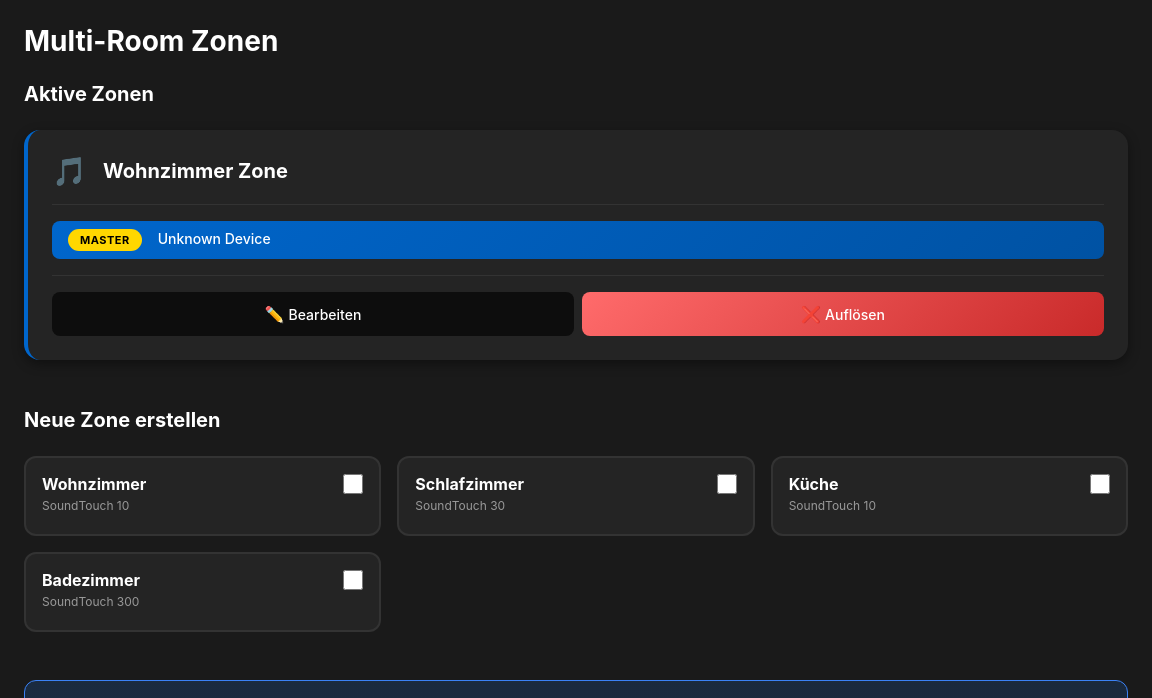
Test: MultiRoom - Zone Creation › should allow deselecting devices
# Select device
Click the checkbox labelled "Wohnzimmer SoundTouch 10" at (353, 484), box [343,474,363,494]
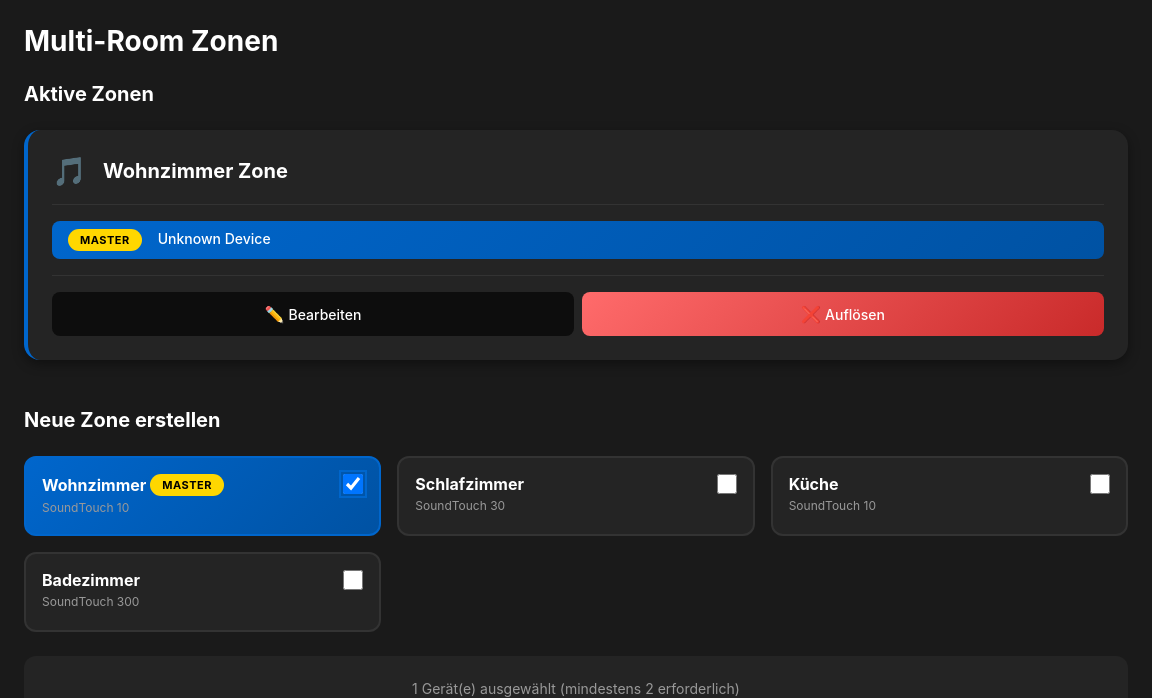
Now the checkbox labelled "Wohnzimmer Master SoundTouch 10" is checked
# Deselect device
Click the checkbox labelled "Wohnzimmer Master SoundTouch 10" at (353, 484), box [343,474,363,494]
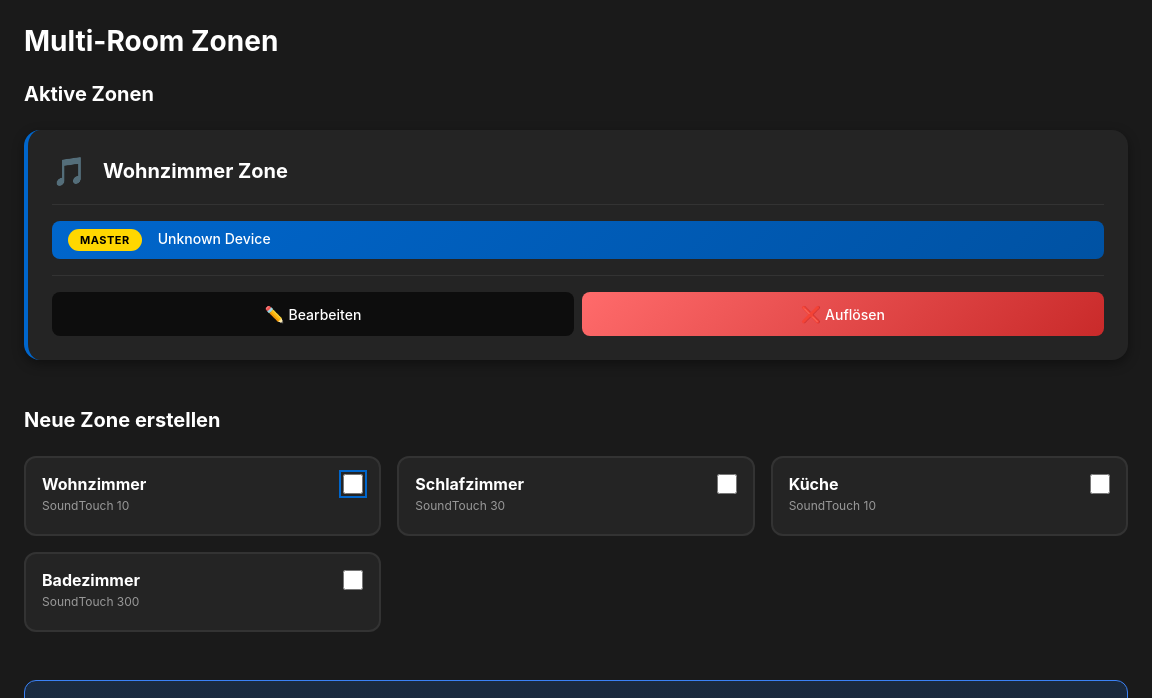
Now the checkbox labelled "Wohnzimmer SoundTouch 10" is not checked, box [343,474,363,494]
Now the text "Gerät(e) ausgewählt" is gone
